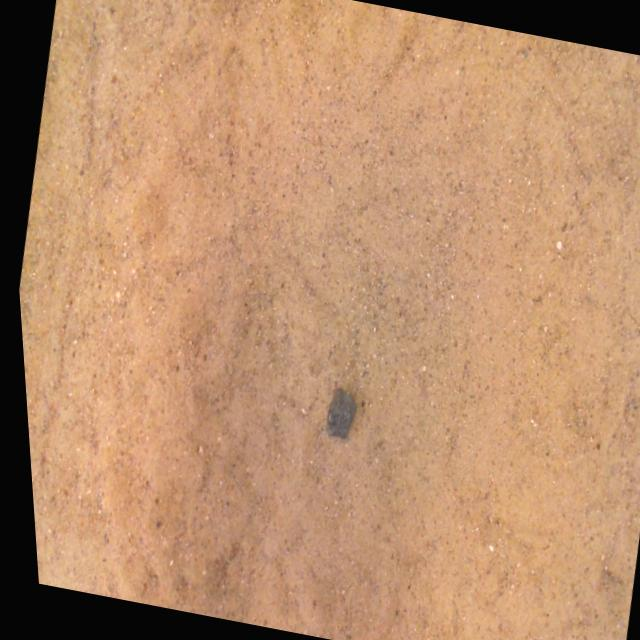rock: (322, 388, 351, 438)
